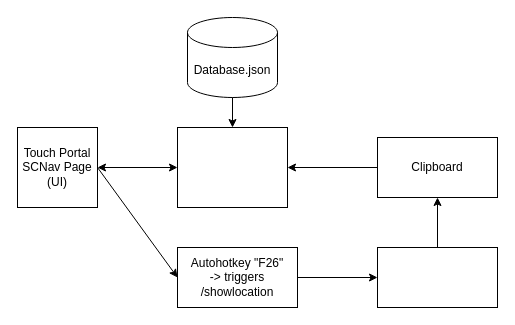
The diagram is 515 pixels wide and 325 high, and some of its shapes have lost their labels. Each missing label, with the box of its shape:
plugin.py (Calculation/UI Logic): (176, 126, 288, 208)
Star Citizen: (376, 246, 498, 308)
